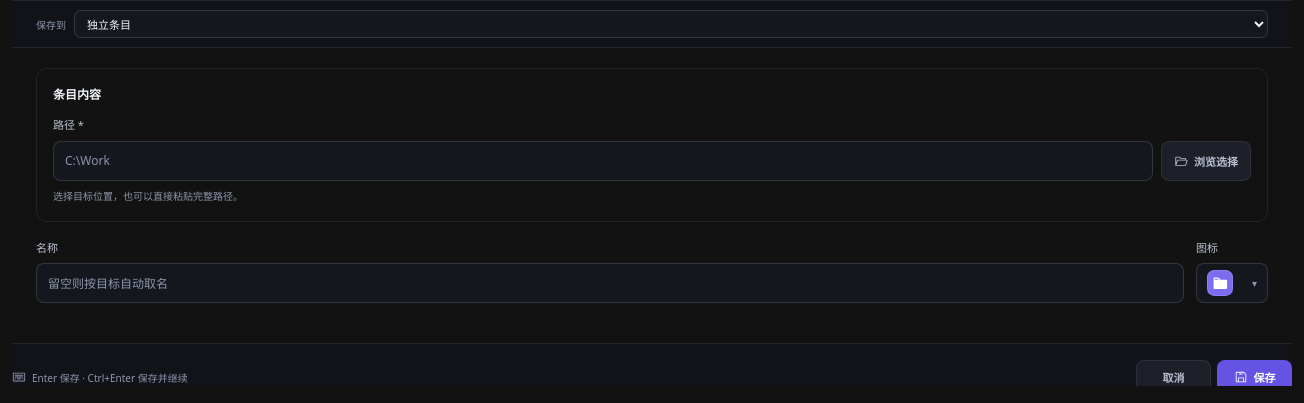
it: ItemForm path input › leaves the path as it is when the browse dialog gave it
What coordinates should you click on to do the following:
click the button with test id "item-browse"
I would click on:
 (1206, 160)
Its box is [1161, 140, 1251, 180].
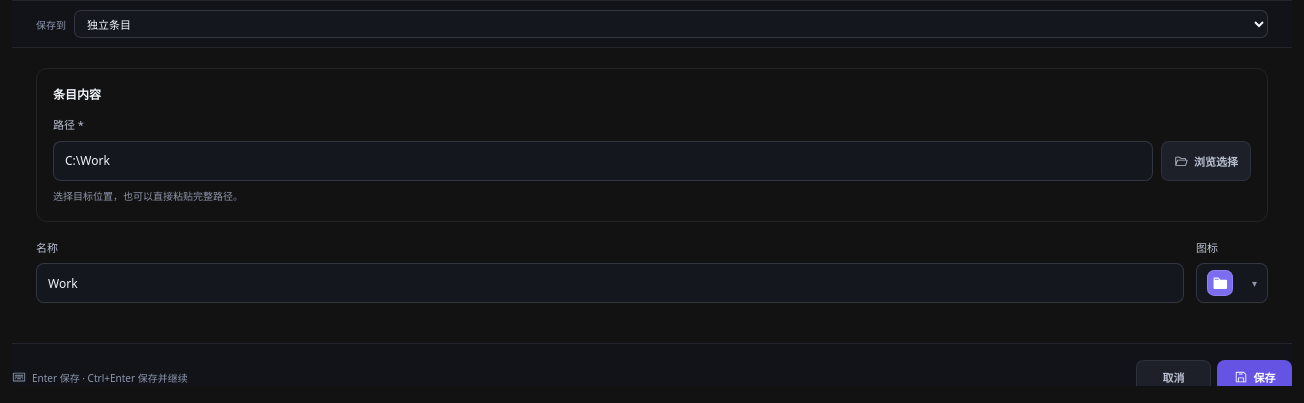
Expected: the field with test id "item-path-input" holds "C:\\Work", [53, 140, 1153, 180]
